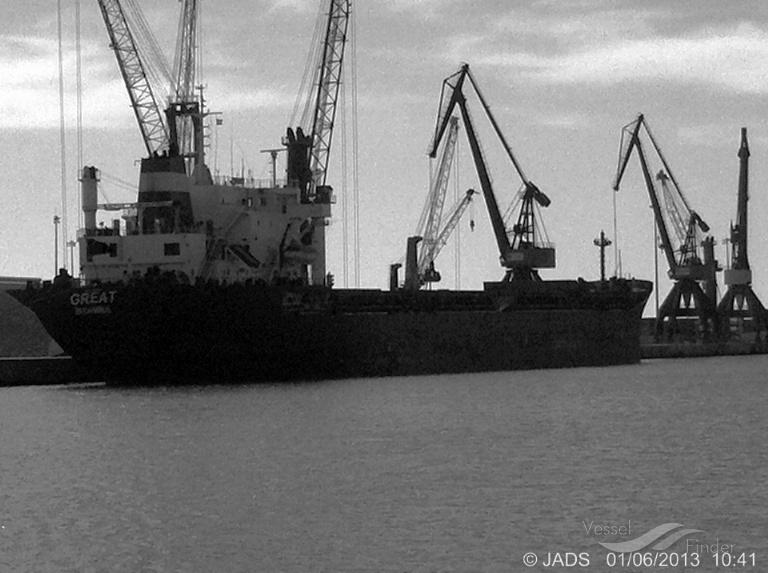OCR: (60, 288, 132, 323)
